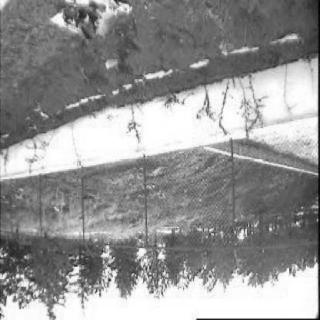Fire: (68, 4, 110, 44)
